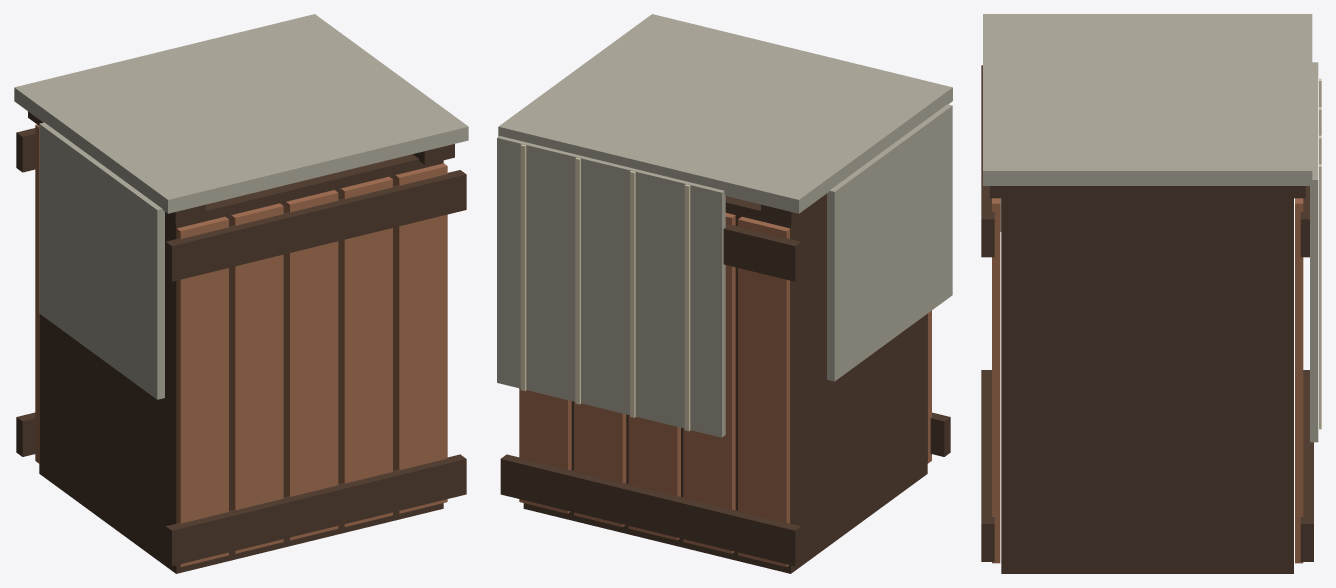
Rendered from LP_Egypt_CoveredCrate.fbx.
The picture shows the model from 3 angles, left to right: view 1: azimuth 30°, elevation 25°; view 2: azimuth 150°, elevation 25°; view 3: azimuth 270°, elevation 25°; orthographic projection. The views are drawn at different scales.
Visible parts, largest first — view 1: M_Museum_DustCloth, Terracotta, Walnut; view 2: M_Museum_DustCloth, Walnut, Terracotta, WarmIvory; view 3: Walnut, M_Museum_DustCloth, Terracotta, WarmIvory.
Boxes of the visible parts, box(x1,y1,x2,y2) form: M_Museum_DustCloth: box(14, 14, 468, 399); Terracotta: box(35, 124, 447, 567); Walnut: box(16, 111, 466, 573); M_Museum_DustCloth: box(497, 14, 952, 437); Walnut: box(500, 193, 950, 573); Terracotta: box(519, 213, 931, 566); WarmIvory: box(520, 144, 690, 431); Walnut: box(981, 65, 1313, 573); M_Museum_DustCloth: box(983, 14, 1318, 442); Terracotta: box(992, 198, 1303, 563); WarmIvory: box(1319, 78, 1321, 429).
Size of the model in its own units: 100 by 120 by 90.
